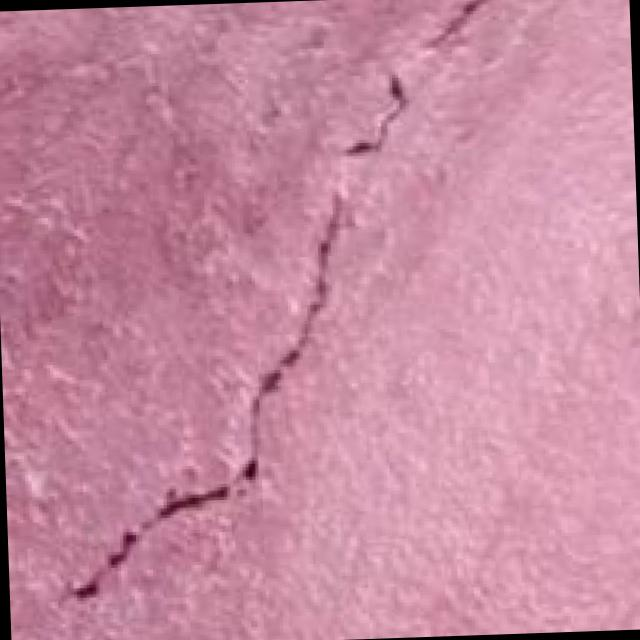crack: (21, 0, 535, 611)
